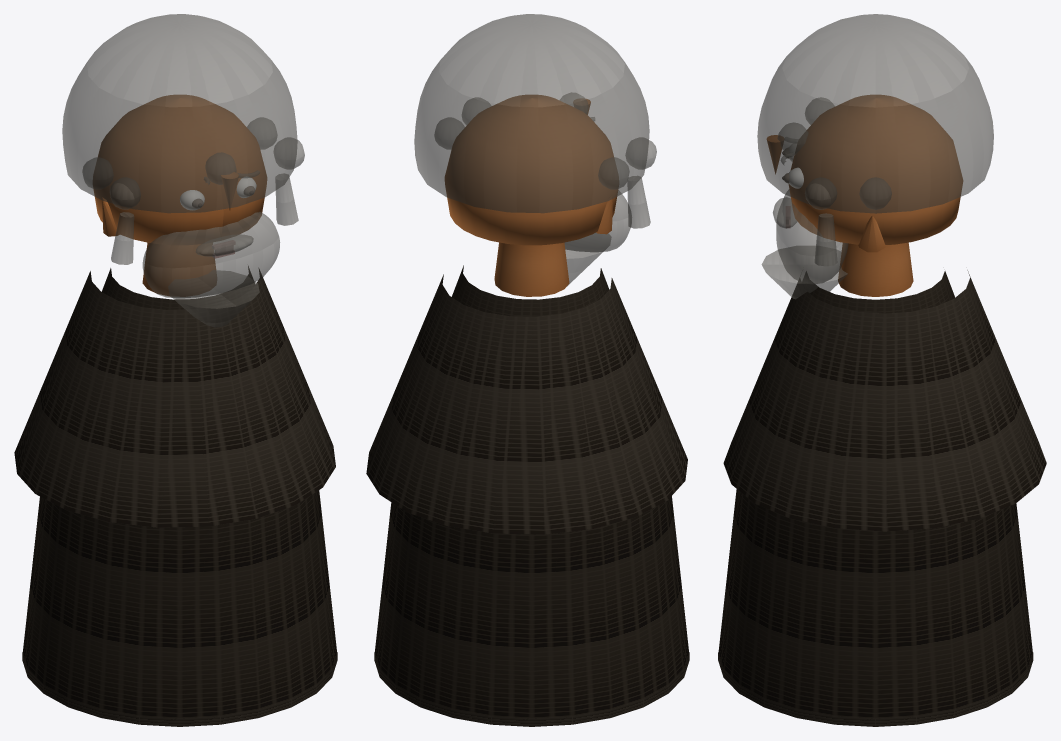
The model's file is peter_simple_defense.glb.
3 renders of one model, left to right at view 1: azimuth 30°, elevation 25°; view 2: azimuth 150°, elevation 25°; view 3: azimuth 270°, elevation 25°, orthographic.
Visible parts, largest first — view 1: Character_peter_simple_defense, head; view 2: Character_peter_simple_defense, head; view 3: Character_peter_simple_defense, head.
Boxes of the visible parts, box(x1,y1,x2,y2) form: Character_peter_simple_defense: box(14, 14, 337, 726); head: box(93, 95, 266, 244); Character_peter_simple_defense: box(366, 14, 689, 726); head: box(445, 95, 618, 245); Character_peter_simple_defense: box(718, 14, 1046, 726); head: box(789, 95, 962, 244).
Bounding box in the file's own units: 0.8297 × 1.8 × 0.8434.
9 materials, 4 textured.
